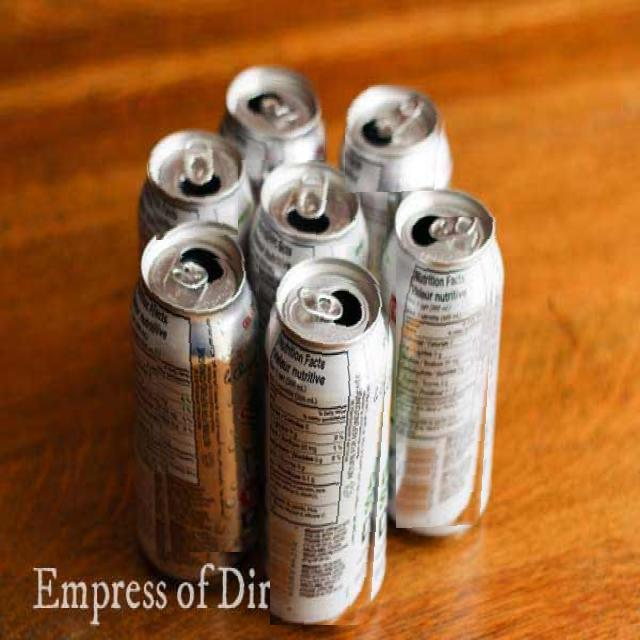Cans: (270, 279, 392, 625), (150, 253, 259, 552), (396, 217, 498, 529), (345, 85, 446, 193), (146, 149, 238, 240), (233, 78, 325, 160), (265, 188, 359, 246)
